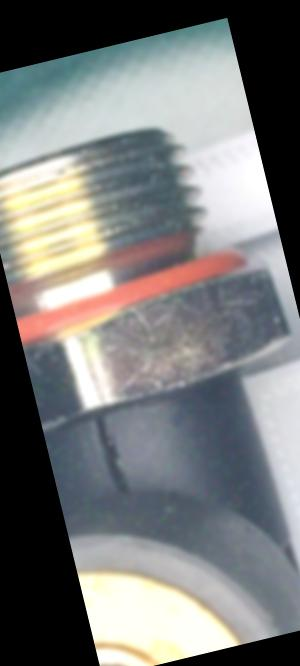craze: (85, 403, 137, 506)
